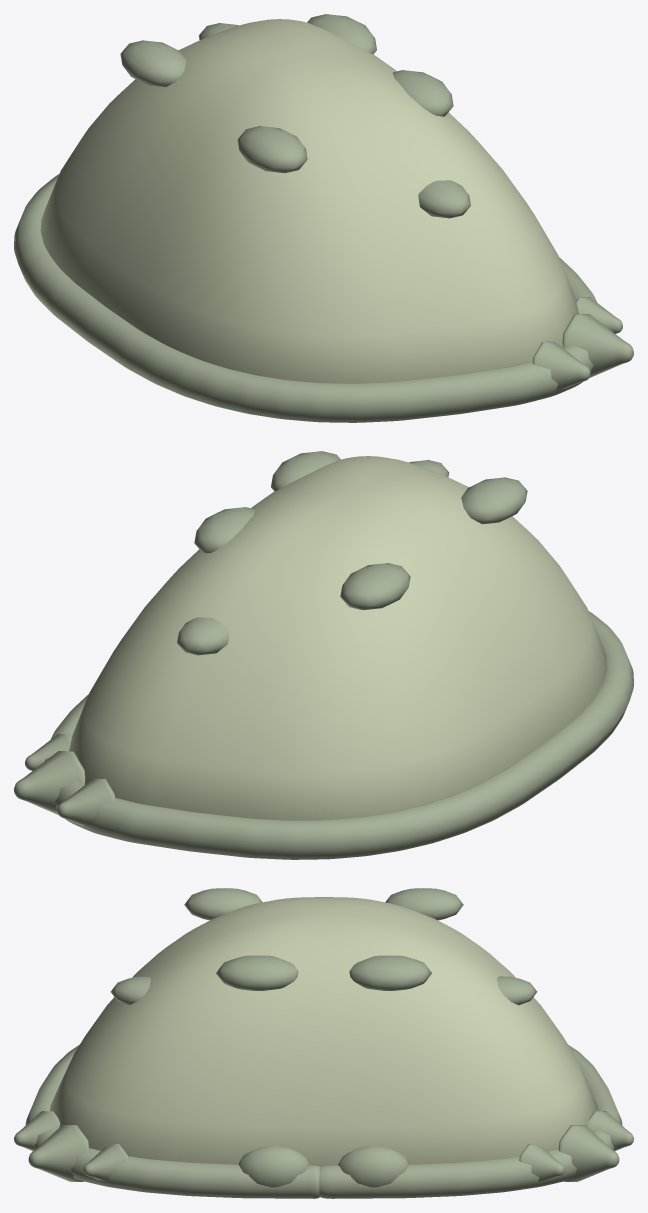
Rendered from creature.carapace.glb.
The picture shows the model from 3 angles, top to bottom: view 1: azimuth 30°, elevation 25°; view 2: azimuth 150°, elevation 25°; view 3: azimuth 270°, elevation 25°; orthographic projection. The views are drawn at different scales.
Parts seen in each view (by area): view 1: ShellRim, Shell; view 2: ShellRim, Shell; view 3: ShellRim, Shell.
Part boxes in pixels (x1,y1,x2,y2): ShellRim: (40, 19, 578, 383); Shell: (14, 14, 633, 422); ShellRim: (69, 456, 607, 820); Shell: (14, 451, 633, 859); ShellRim: (50, 897, 597, 1166); Shell: (14, 888, 633, 1198).
Bounding box in the file's own units: 2.19 × 1.23 × 3.24.
